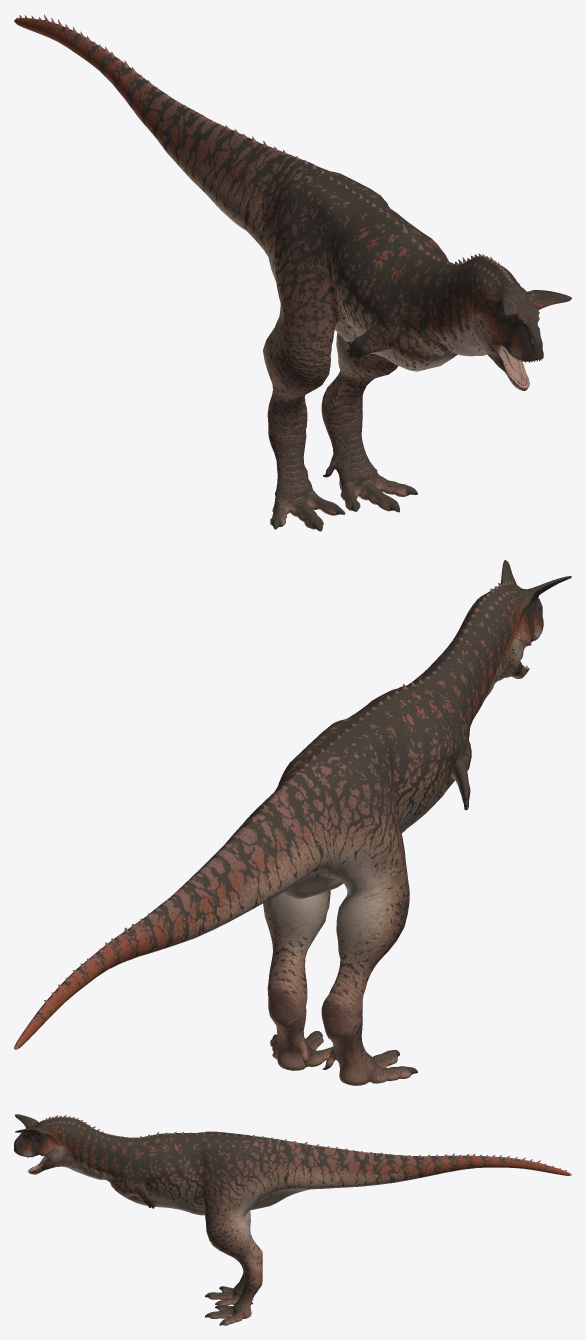
Rendered from Carnotauro.glb.
The picture shows the model from 3 angles, top to bottom: view 1: azimuth 30°, elevation 25°; view 2: azimuth 150°, elevation 25°; view 3: azimuth 270°, elevation 25°; orthographic projection. The views are drawn at different scales.
Parts seen in each view (by area): view 1: DW_Carnotauro_Adulto_Mayor_mesh; view 2: DW_Carnotauro_Adulto_Mayor_mesh; view 3: DW_Carnotauro_Adulto_Mayor_mesh.
Boxes of the visible parts, x1,y1,x2,y2 form: DW_Carnotauro_Adulto_Mayor_mesh: (14,14,571,531); DW_Carnotauro_Adulto_Mayor_mesh: (14,560,571,1085); DW_Carnotauro_Adulto_Mayor_mesh: (14,1114,571,1325).
Bounding box in the file's own units: 0.1578 × 0.3822 × 1.
2 materials, 2 textured.
